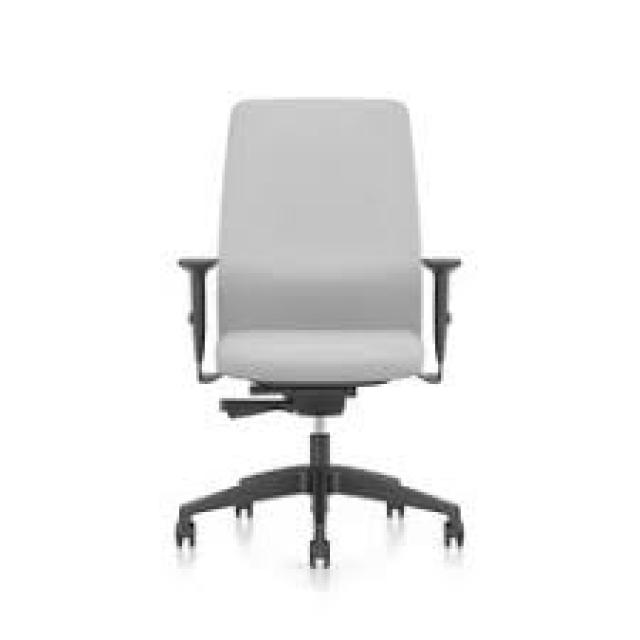chair: (90, 67, 560, 634)
